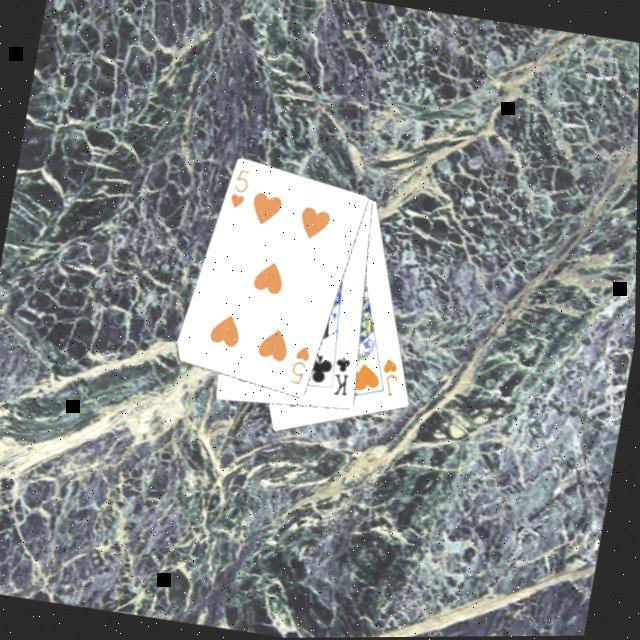5H: (285, 342, 315, 390), (224, 166, 254, 214)
JH: (375, 356, 405, 402)
KC: (323, 350, 358, 401)
